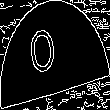O_S: (39, 26, 71, 84)
